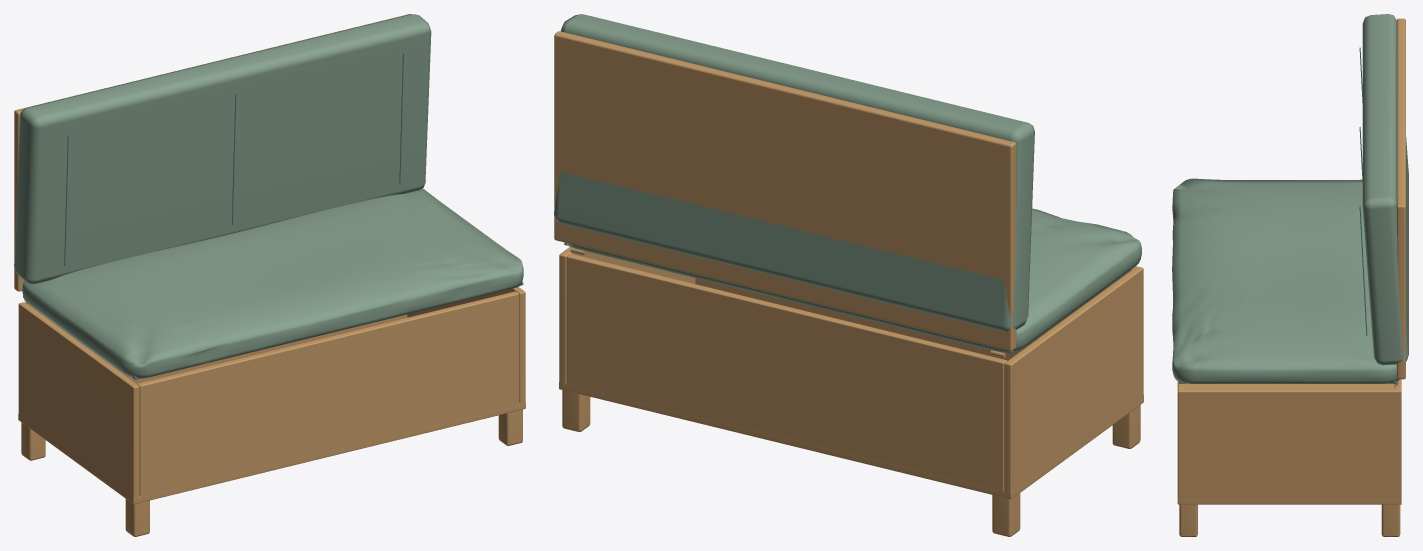
Rendered from dining-banquette.glb.
3 renders of one model, left to right at view 1: azimuth 30°, elevation 25°; view 2: azimuth 150°, elevation 25°; view 3: azimuth 270°, elevation 25°, orthographic. The views are drawn at different scales.
Visible parts, largest first — view 1: catalog_surface_RealismUV; view 2: catalog_surface_RealismUV; view 3: catalog_surface_RealismUV.
Boxes of the visible parts, x1,y1,x2,y2 form: catalog_surface_RealismUV: [14, 14, 525, 536]; catalog_surface_RealismUV: [554, 14, 1143, 536]; catalog_surface_RealismUV: [1172, 14, 1408, 536].
Size of the model in its own units: 1.1 by 0.92 by 0.58.
